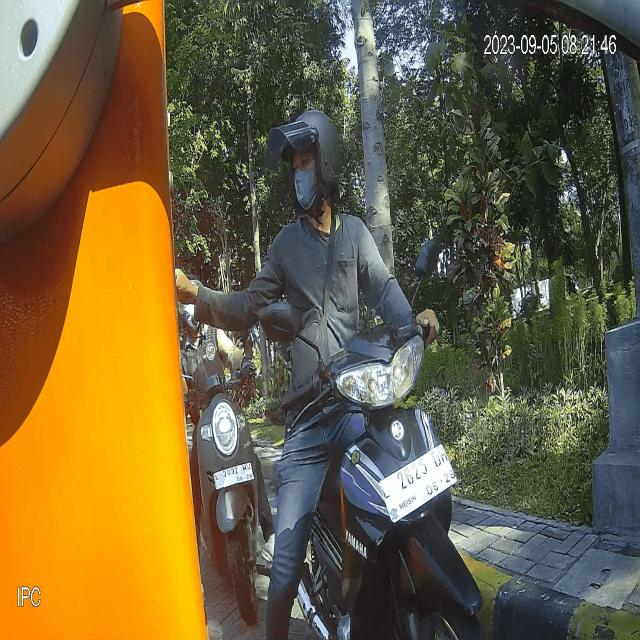license-plate: (377, 441, 460, 525)
